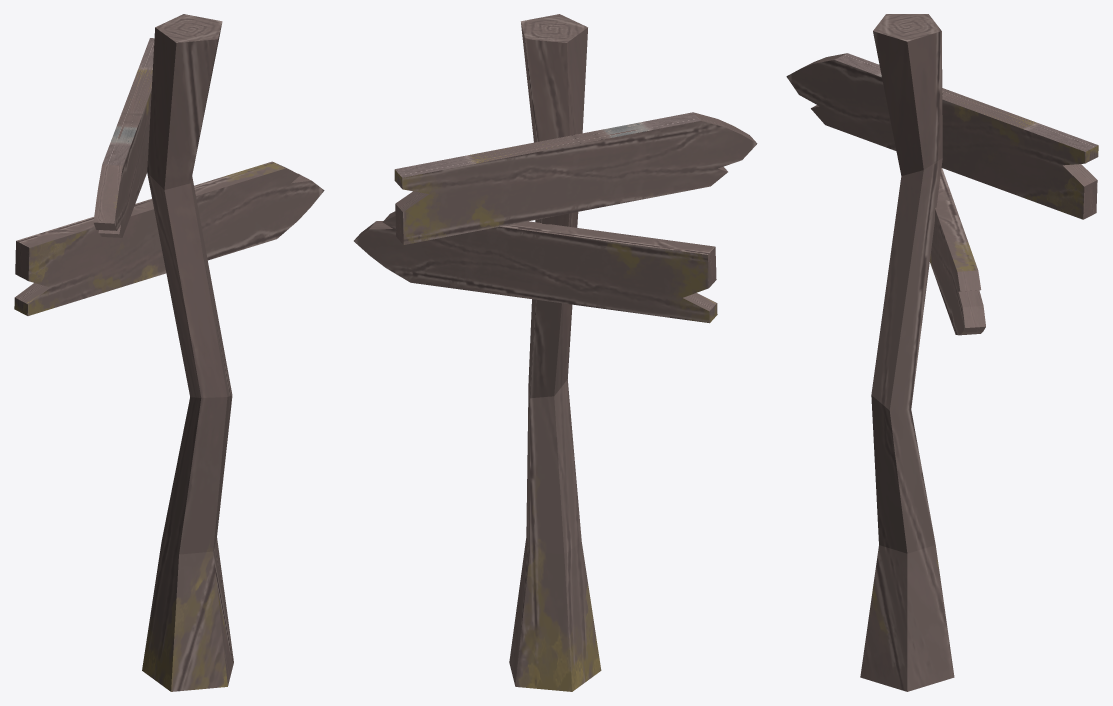
Rendered from SM_CrossRoad.fbx.
The picture shows the model from 3 angles, left to right: view 1: azimuth 30°, elevation 25°; view 2: azimuth 150°, elevation 25°; view 3: azimuth 270°, elevation 25°; orthographic projection.
Visible parts, largest first — view 1: Cylinder001, Box012, Box013; view 2: Cylinder001, Box013, Box012; view 3: Cylinder001, Box013, Box012.
Part boxes in pixels (box(x1,y1,x2,y2)): Cylinder001: box(142, 14, 233, 691); Box012: box(14, 161, 324, 315); Box013: box(93, 38, 154, 237); Cylinder001: box(509, 14, 601, 691); Box013: box(394, 112, 757, 244); Box012: box(354, 211, 717, 323); Cylinder001: box(860, 14, 954, 691); Box013: box(786, 53, 1098, 219); Box012: box(930, 168, 985, 335).
Bounding box in the file's own units: 54.61 × 102 × 44.78.
